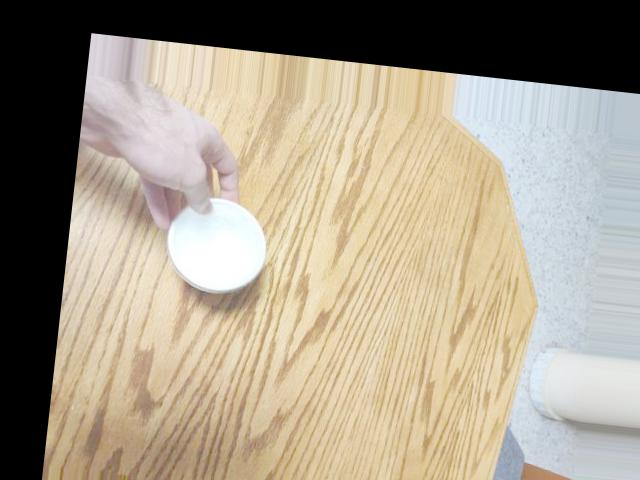cotage: (153, 179, 279, 304)
